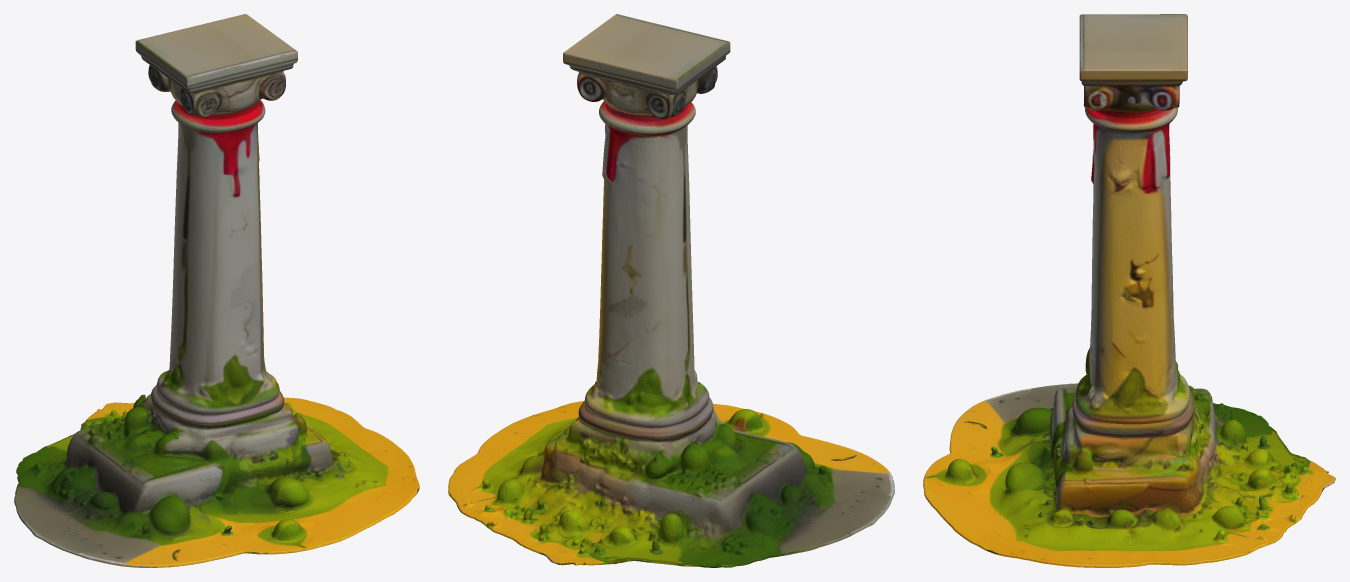
File: weathered-monolith-pillar-generated-2026-04-18t22-01-36-007z-texture-wrap-2026-04-18t22-48-19-209z-generated-2026-04-19T00-03-58-451Z.glb
3 renders of one model, left to right at view 1: azimuth 30°, elevation 25°; view 2: azimuth 150°, elevation 25°; view 3: azimuth 270°, elevation 25°, orthographic. The views are drawn at different scales.
Parts seen in each view (by area): view 1: temp_mesh.ply; view 2: temp_mesh.ply; view 3: temp_mesh.ply.
Boxes of the visible parts, x1,y1,x2,y2 form: temp_mesh.ply: [14, 14, 419, 567]; temp_mesh.ply: [448, 14, 894, 567]; temp_mesh.ply: [923, 14, 1335, 567].
Bounding box in the file's own units: 1.74 × 1.96 × 1.65.
Materials: 1 (1 with a texture image).
